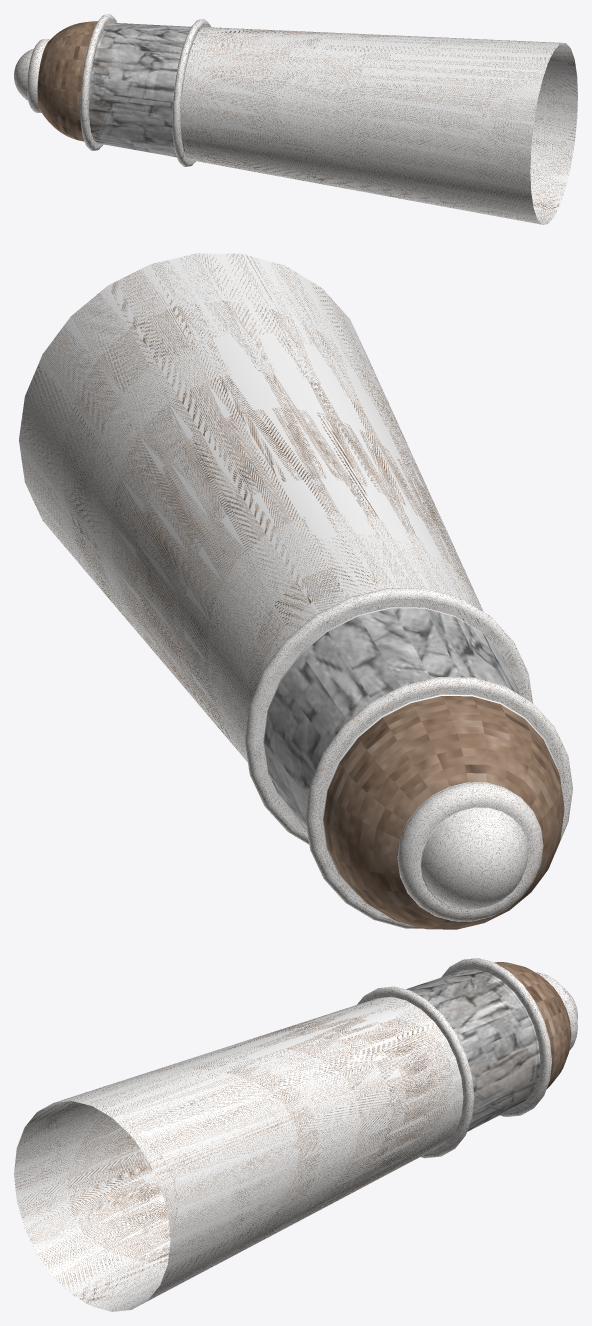
3 renders of one model, top to bottom at view 1: azimuth 30°, elevation 25°; view 2: azimuth 150°, elevation 25°; view 3: azimuth 270°, elevation 25°, orthographic. The views are drawn at different scales.
Visible parts, largest first — view 1: mesh33_mesh33-geometry, mesh31_mesh31-geometry, mesh27_mesh27-geometry, mesh32_mesh32-geometry, mesh29_mesh29-geometry, mesh28_mesh28-geometry, mesh4_mesh4-geometry, mesh1_mesh1-geometry; view 2: mesh33_mesh33-geometry, mesh31_mesh31-geometry, mesh32_mesh32-geometry, mesh28_mesh28-geometry, mesh29_mesh29-geometry, mesh27_mesh27-geometry; view 3: mesh33_mesh33-geometry, mesh31_mesh31-geometry, mesh32_mesh32-geometry, mesh27_mesh27-geometry, mesh29_mesh29-geometry.
Boxes of the visible parts, x1=… form: mesh33_mesh33-geometry: x1=180, y1=27, x2=577, y2=224; mesh31_mesh31-geometry: x1=37, y1=14, x2=190, y2=157; mesh27_mesh27-geometry: x1=104, y1=52, x2=180, y2=129; mesh32_mesh32-geometry: x1=172, y1=19, x2=210, y2=166; mesh29_mesh29-geometry: x1=27, y1=39, x2=49, y2=112; mesh28_mesh28-geometry: x1=14, y1=48, x2=33, y2=100; mesh4_mesh4-geometry: x1=94, y1=100, x2=171, y2=115; mesh1_mesh1-geometry: x1=112, y1=35, x2=184, y2=42; mesh33_mesh33-geometry: x1=19, y1=253, x2=483, y2=762; mesh31_mesh31-geometry: x1=263, y1=607, x2=572, y2=929; mesh32_mesh32-geometry: x1=244, y1=588, x2=532, y2=844; mesh28_mesh28-geometry: x1=420, y1=808, x2=528, y2=909; mesh29_mesh29-geometry: x1=397, y1=782, x2=543, y2=921; mesh27_mesh27-geometry: x1=307, y1=649, x2=461, y2=769; mesh33_mesh33-geometry: x1=14, y1=996, x2=463, y2=1311; mesh31_mesh31-geometry: x1=406, y1=958, x2=571, y2=1131; mesh32_mesh32-geometry: x1=357, y1=986, x2=474, y2=1158; mesh27_mesh27-geometry: x1=456, y1=1021, x2=499, y2=1067; mesh29_mesh29-geometry: x1=509, y1=972, x2=577, y2=1053.
Bounding box in the file's own units: 0.6813 × 0.2675 × 0.6813.
